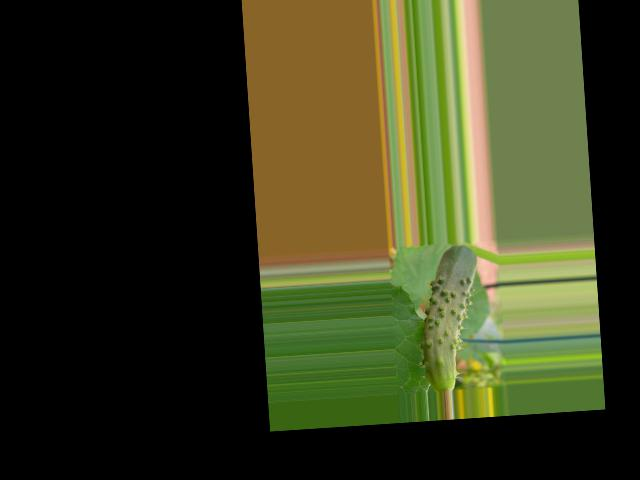cucumber: (413, 243, 484, 392)
